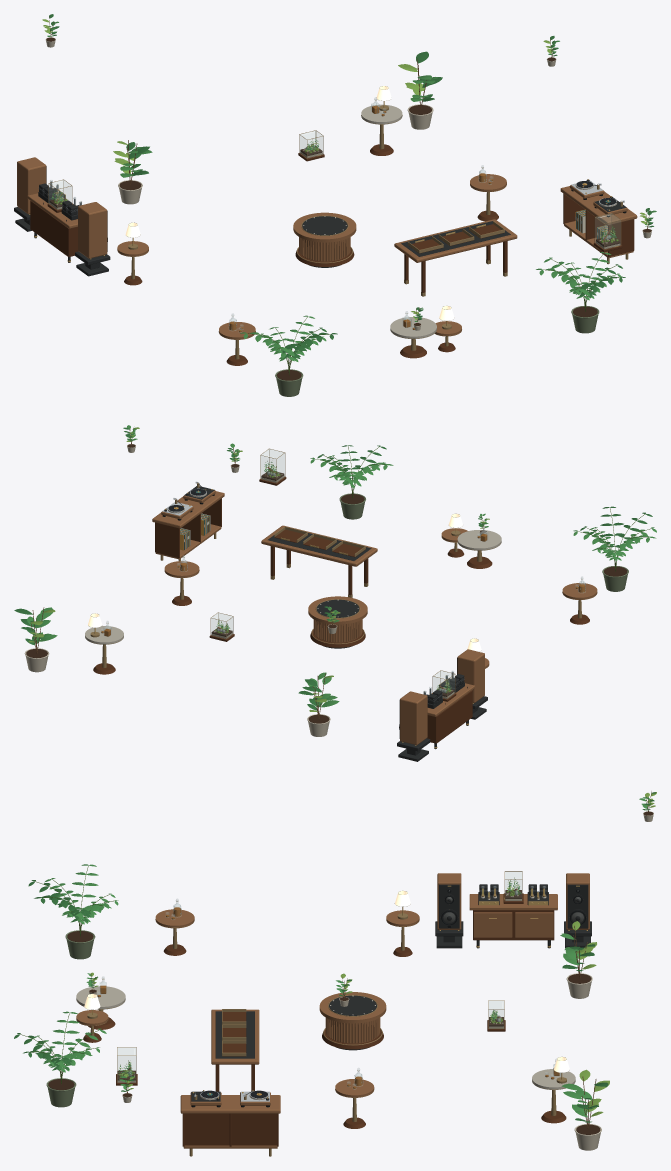
Rendered from office-decorations.glb.
3 renders of one model, top to bottom at view 1: azimuth 30°, elevation 25°; view 2: azimuth 150°, elevation 25°; view 3: azimuth 270°, elevation 25°, orthographic. The views are drawn at different scales.
Parts seen in each view (by area): view 1: batch::hologram-podium::Walnut_4, batch::speaker-right::Walnut_4, batch::vinyl-console::WalnutDeep, batch::listening-console::WalnutDeep, batch::vinyl-console::Walnut_4, batch::speaker-left::Walnut_4, batch::shared-work-island::WalnutDeep, batch::shared-work-island::Walnut_4, batch::front-palm::LeafJade, batch::shared-work-island::AudioGraphite, batch::hologram-podium::AudioGraphite, batch::window-palm::LeafJade (+5 smaller); view 2: batch::hologram-podium::Walnut_4, batch::vinyl-console::WalnutDeep, batch::speaker-left::Walnut_4, batch::listening-console::WalnutDeep, batch::shared-work-island::WalnutDeep, batch::vinyl-console::Walnut_4, batch::speaker-right::Walnut_4, batch::shared-work-island::Walnut_4, batch::window-palm::LeafJade, batch::front-palm::LeafJade, batch::nesting-table-tall::PaleStone, batch::hologram-podium::AudioGraphite (+5 smaller); view 3: batch::vinyl-console::WalnutDeep, batch::listening-console::Walnut_4, batch::hologram-podium::Walnut_4, batch::vinyl-console::Walnut_4, batch::speaker-right::AudioGraphite, batch::speaker-left::AudioGraphite, batch::shared-work-island::WalnutDeep, batch::front-palm::LeafJade, batch::shared-work-island::Walnut_4, batch::shared-work-island::AudioGraphite, batch::window-palm::LeafJade, batch::hologram-podium::AudioGraphite (+8 smaller).
Boxes of the visible parts, left/top/right/bottom form: batch::hologram-podium::Walnut_4: left=293, top=212, right=356, bottom=261; batch::speaker-right::Walnut_4: left=78, top=202, right=107, bottom=258; batch::vinyl-console::WalnutDeep: left=563, top=193, right=634, bottom=256; batch::listening-console::WalnutDeep: left=30, top=201, right=78, bottom=256; batch::vinyl-console::Walnut_4: left=560, top=186, right=637, bottom=258; batch::speaker-left::Walnut_4: left=17, top=157, right=46, bottom=214; batch::shared-work-island::WalnutDeep: left=404, top=224, right=507, bottom=292; batch::shared-work-island::Walnut_4: left=394, top=219, right=517, bottom=262; batch::front-palm::LeafJade: left=536, top=252, right=621, bottom=300; batch::shared-work-island::AudioGraphite: left=401, top=221, right=510, bottom=256; batch::hologram-podium::AudioGraphite: left=302, top=216, right=347, bottom=267; batch::window-palm::LeafJade: left=240, top=315, right=326, bottom=361; batch::hologram-podium::Walnut_4: left=308, top=596, right=367, bottom=642; batch::vinyl-console::WalnutDeep: left=155, top=498, right=221, bottom=557; batch::speaker-left::Walnut_4: left=400, top=691, right=427, bottom=745; batch::listening-console::WalnutDeep: left=427, top=690, right=472, bottom=743; batch::shared-work-island::WalnutDeep: left=270, top=529, right=368, bottom=595; batch::vinyl-console::Walnut_4: left=152, top=491, right=224, bottom=559; batch::speaker-right::Walnut_4: left=457, top=649, right=484, bottom=702; batch::shared-work-island::Walnut_4: left=261, top=525, right=377, bottom=566; batch::window-palm::LeafJade: left=573, top=527, right=656, bottom=560; batch::front-palm::LeafJade: left=310, top=455, right=393, bottom=488; batch::nesting-table-tall::PaleStone: left=457, top=530, right=501, bottom=550; batch::hologram-podium::AudioGraphite: left=316, top=599, right=359, bottom=648; batch::vinyl-console::WalnutDeep: left=182, top=1113, right=278, bottom=1146; batch::listening-console::Walnut_4: left=469, top=894, right=557, bottom=937; batch::hologram-podium::Walnut_4: left=319, top=992, right=386, bottom=1043; batch::vinyl-console::Walnut_4: left=180, top=1095, right=280, bottom=1148; batch::speaker-right::AudioGraphite: left=435, top=884, right=463, bottom=948; batch::speaker-left::AudioGraphite: left=564, top=884, right=591, bottom=947; batch::shared-work-island::WalnutDeep: left=215, top=1012, right=254, bottom=1091; batch::front-palm::LeafJade: left=33, top=1011, right=106, bottom=1072; batch::shared-work-island::Walnut_4: left=211, top=1009, right=259, bottom=1064; batch::shared-work-island::AudioGraphite: left=215, top=1011, right=254, bottom=1058; batch::window-palm::LeafJade: left=44, top=864, right=118, bottom=924; batch::hologram-podium::AudioGraphite: left=329, top=995, right=376, bottom=1050.
Size of the model in its own units: 9.34 by 3.47 by 11.2.
